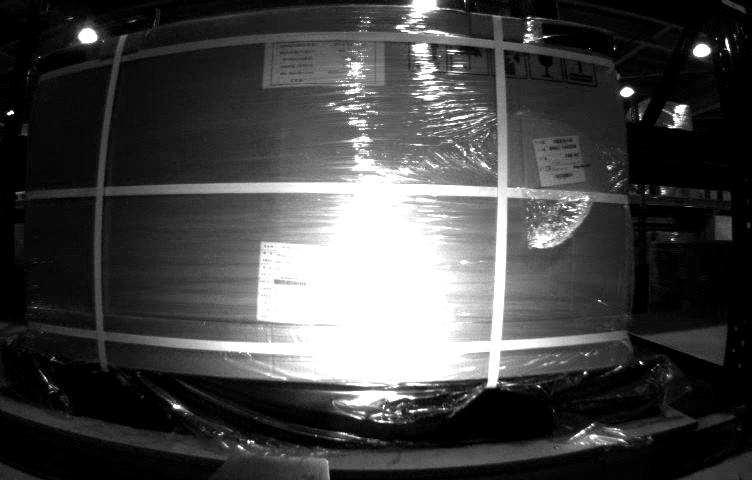True Barcode: (529, 133, 587, 186)
